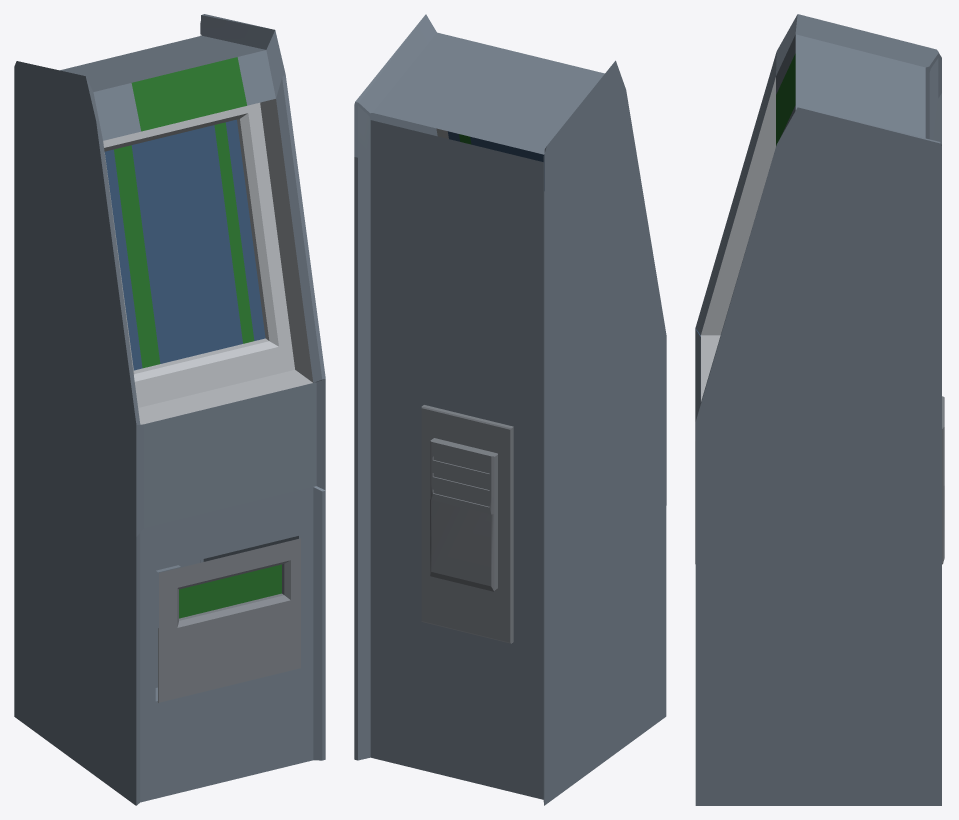
Rendered from ATM.fbx.
3 renders of one model, left to right at view 1: azimuth 30°, elevation 25°; view 2: azimuth 150°, elevation 25°; view 3: azimuth 270°, elevation 25°, orthographic.
Visible parts, largest first — view 1: atm; view 2: atm; view 3: atm.
Part boxes in pixels (x1=…): atm: x1=14, y1=14, x2=325, y2=805; atm: x1=354, y1=14, x2=666, y2=805; atm: x1=695, y1=14, x2=944, y2=805.
Size of the model in its own units: 26.27 by 91.71 by 29.67.
1 material, 1 textured.
